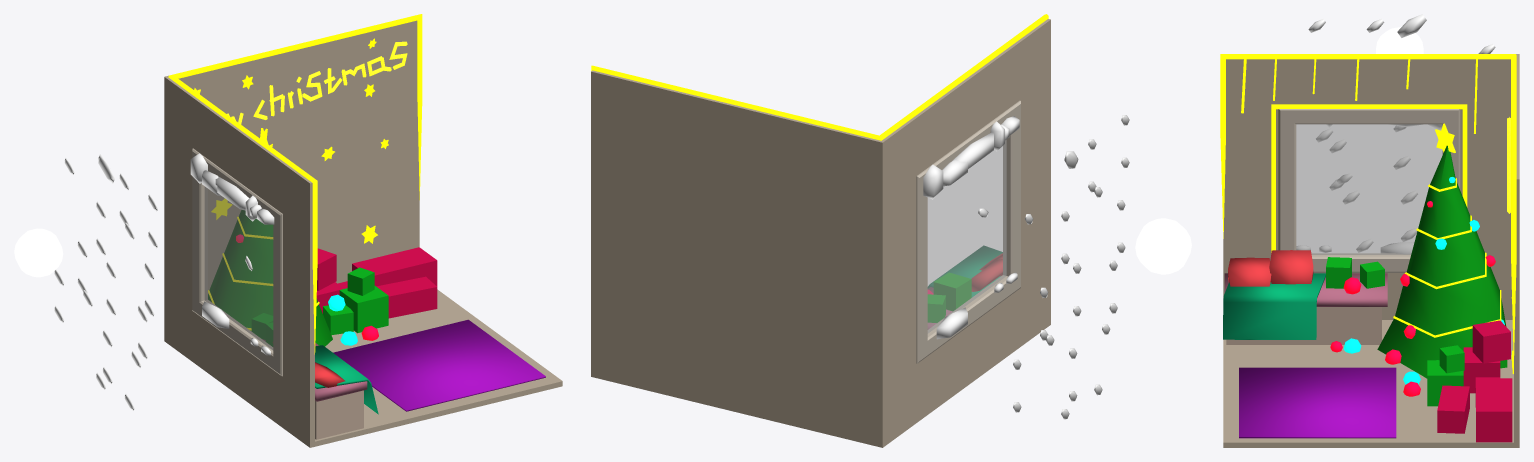
File: christmas.gltf
3 views of the same model, side by side, from view 1: azimuth 30°, elevation 25°; view 2: azimuth 150°, elevation 25°; view 3: azimuth 270°, elevation 25° (orthographic). The views are drawn at different scales.
Visible parts, largest first — view 1: Object_18, Object_2, Object_8, Object_19, Object_9, Object_14, Object_16, Object_11, Object_12, Object_6, Object_5, Object_3 (+3 smaller); view 2: Object_18, Object_8, Object_19, Object_16, Object_11, Object_5, Object_12, Object_4, Object_10; view 3: Object_18, Object_8, Object_9, Object_2, Object_11, Object_19, Object_14, Object_4, Object_12, Object_6, Object_10, Object_16 (+6 smaller).
Boxes of the visible parts, bbox=[...] form: Object_18: bbox=[164, 20, 562, 447]; Object_2: bbox=[333, 319, 545, 411]; Object_8: bbox=[204, 187, 273, 349]; Object_19: bbox=[192, 148, 282, 376]; Object_9: bbox=[208, 210, 332, 346]; Object_14: bbox=[316, 247, 437, 318]; Object_16: bbox=[54, 153, 274, 410]; Object_11: bbox=[168, 14, 422, 354]; Object_12: bbox=[252, 267, 388, 346]; Object_6: bbox=[315, 390, 363, 439]; Object_5: bbox=[14, 228, 63, 277]; Object_3: bbox=[227, 41, 407, 124]; Object_18: bbox=[591, 19, 1050, 447]; Object_8: bbox=[927, 140, 1006, 333]; Object_19: bbox=[916, 100, 1020, 363]; Object_16: bbox=[923, 115, 1129, 419]; Object_11: bbox=[591, 14, 1048, 140]; Object_5: bbox=[1135, 218, 1191, 274]; Object_12: bbox=[928, 272, 971, 322]; Object_4: bbox=[928, 245, 1002, 296]; Object_10: bbox=[972, 253, 1002, 291]; Object_18: bbox=[1223, 54, 1519, 447]; Object_8: bbox=[1296, 124, 1442, 254]; Object_9: bbox=[1377, 145, 1507, 378]; Object_2: bbox=[1239, 367, 1396, 438]; Object_11: bbox=[1220, 54, 1516, 367]; Object_19: bbox=[1278, 109, 1460, 272]; Object_14: bbox=[1437, 320, 1512, 442]; Object_4: bbox=[1223, 273, 1325, 339]; Object_12: bbox=[1326, 257, 1464, 406]; Object_6: bbox=[1226, 307, 1381, 344]; Object_10: bbox=[1228, 250, 1313, 286]; Object_16: bbox=[1296, 14, 1495, 253].
Bounding box in the file's own units: 5.03 × 2.79 × 2.79.
